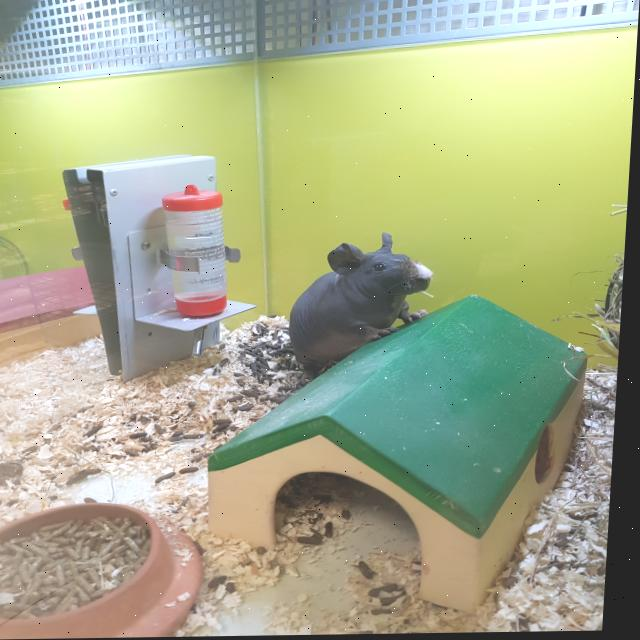guinea pig: (289, 232, 441, 384)
